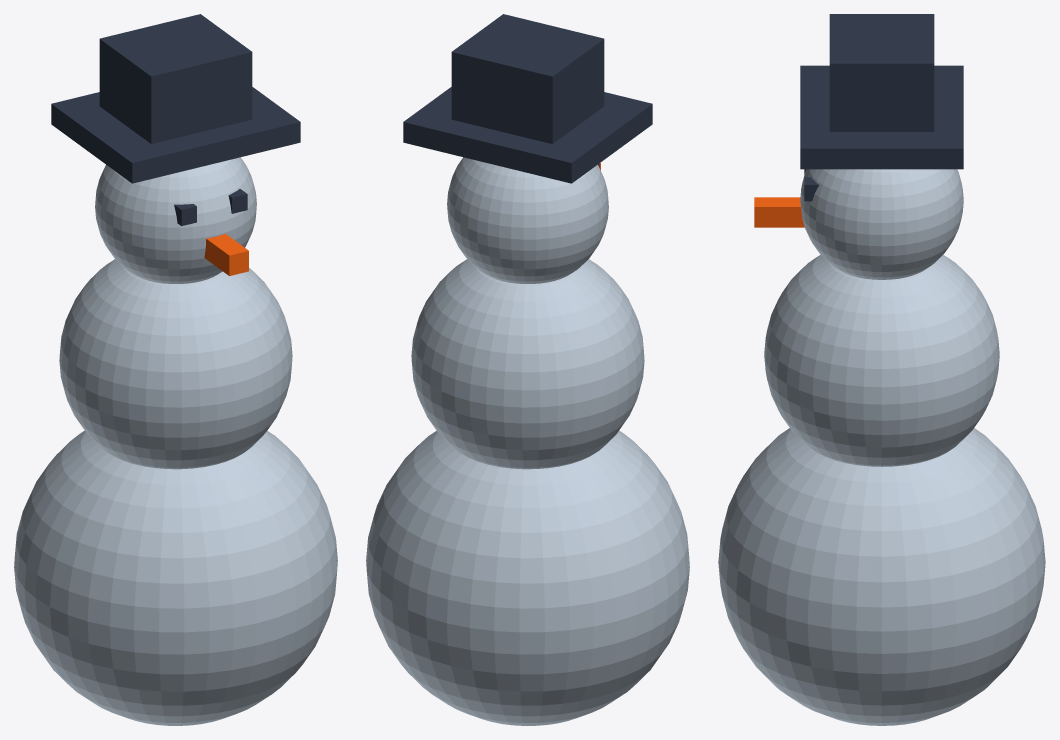
The model's file is snowman.obj.
3 views of the same model, side by side, from view 1: azimuth 30°, elevation 25°; view 2: azimuth 150°, elevation 25°; view 3: azimuth 270°, elevation 25° (orthographic).
Bounding box in the file's own units: 1 × 2.27 × 1.
